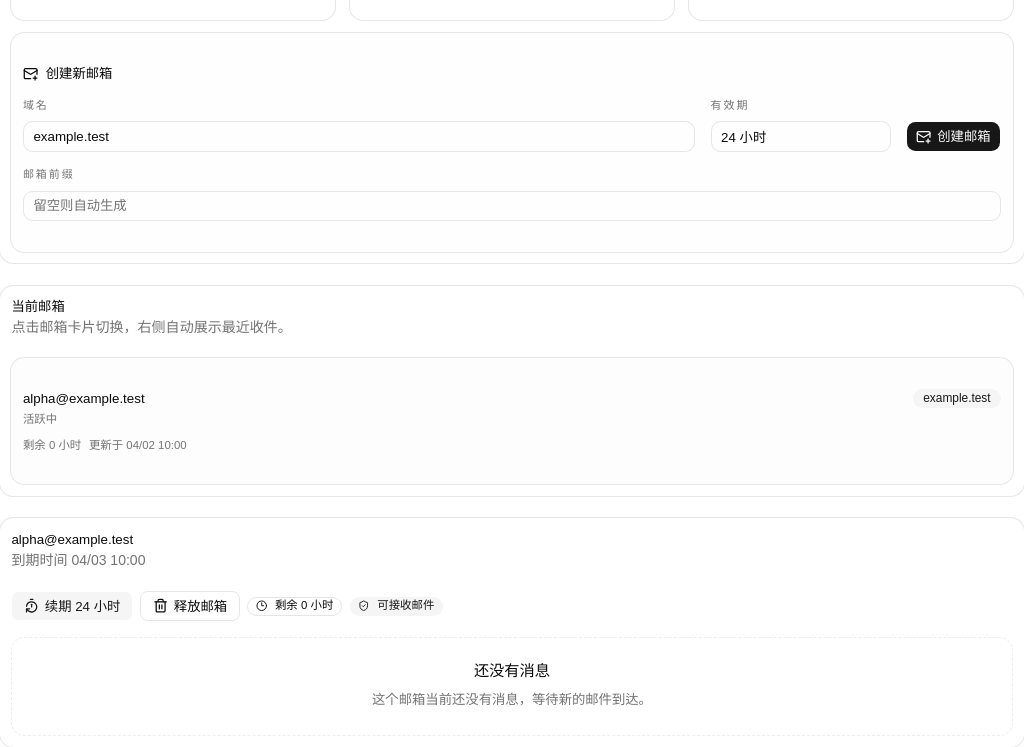
Test: UserMailboxPage › removes released mailboxes from the user view immediately
The width and height of the screenshot is (1024, 747).
(page scrolled)
Expected: the 1st text "alpha@example.test" is shown, [23, 389, 145, 408]
Click the button "释放邮箱" at coordinates (190, 606), box [140, 591, 240, 621]
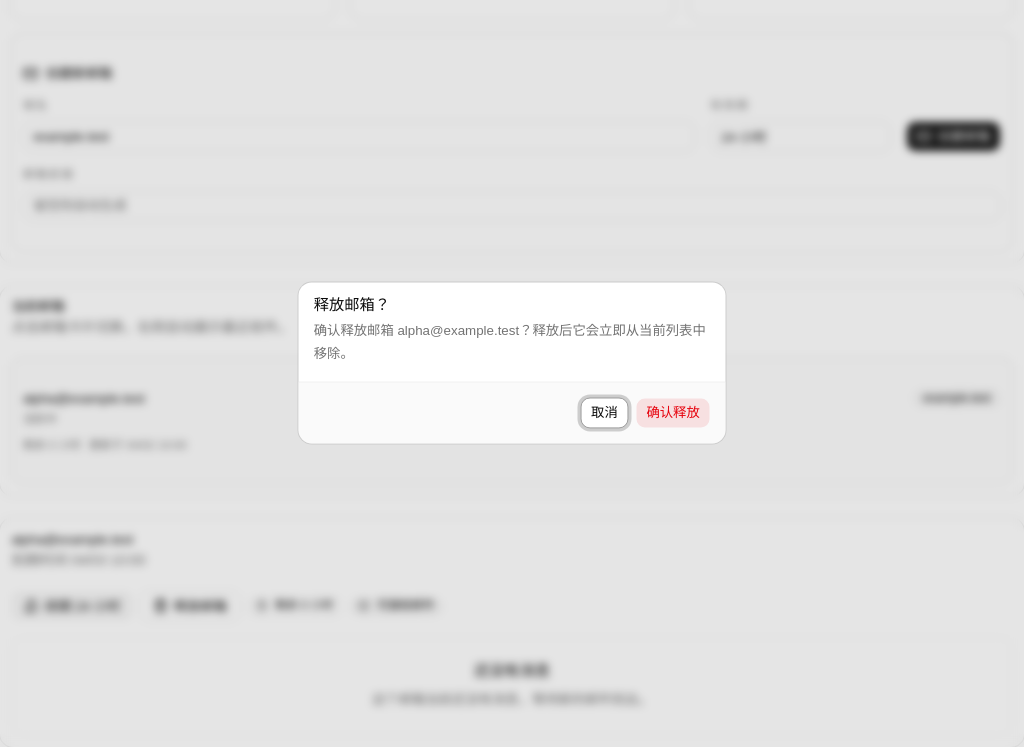
Click the button "确认释放" at coordinates (673, 413), box [636, 398, 710, 428]
(page scrolled)
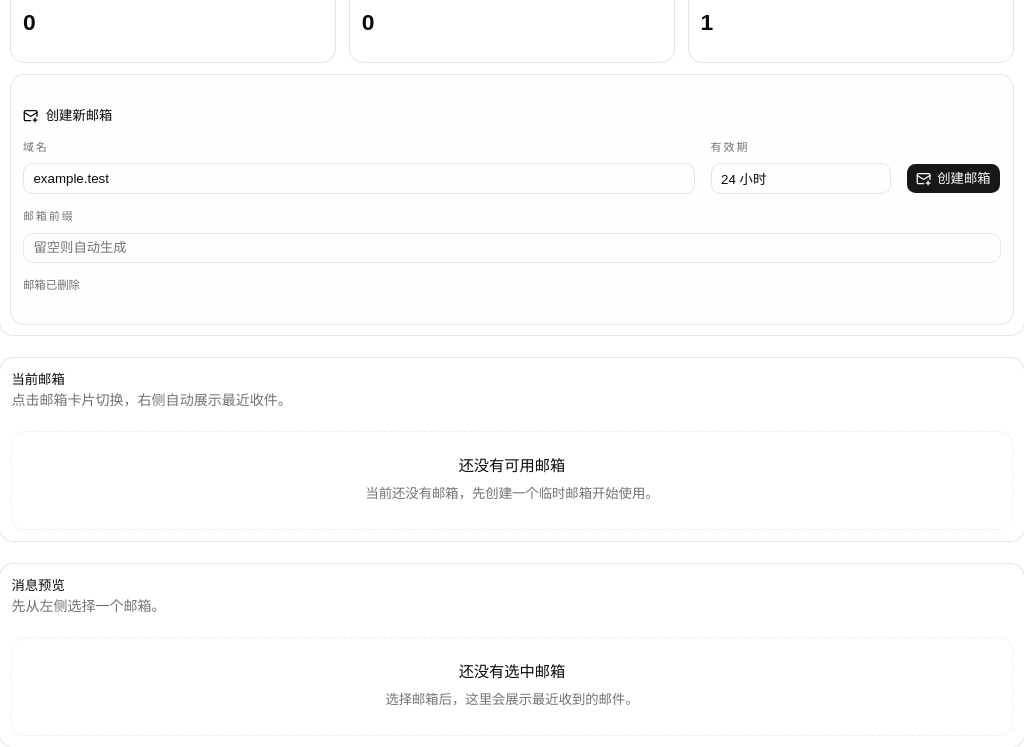
Expected: the text "还没有可用邮箱" is shown, [459, 457, 565, 474]
